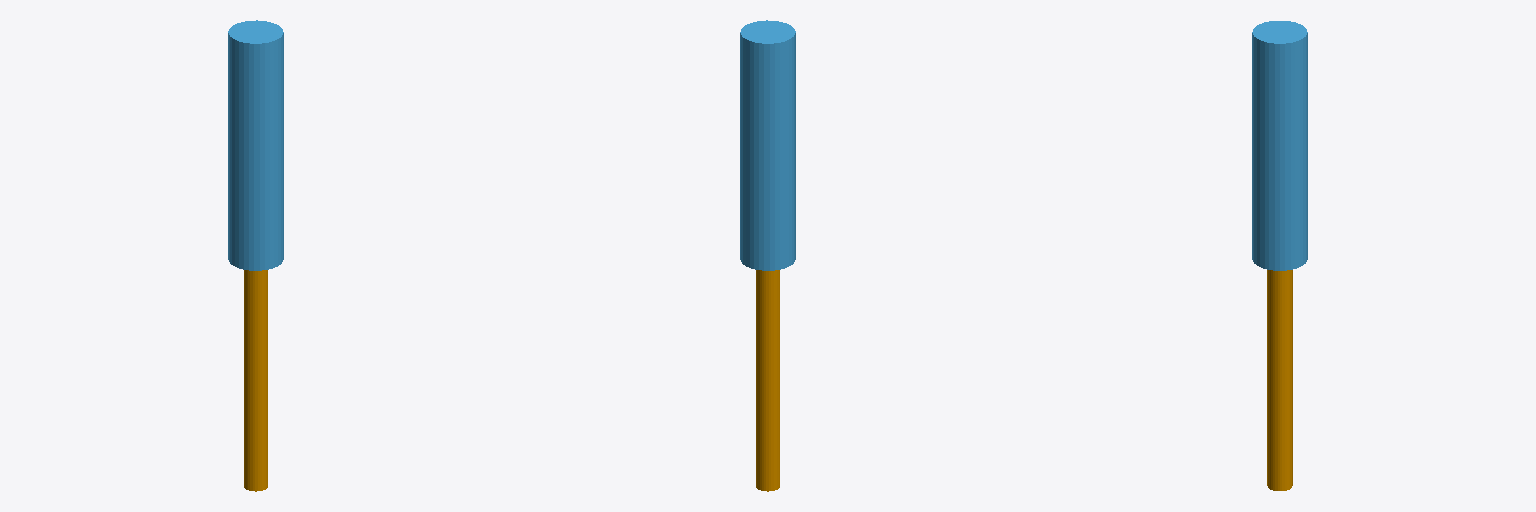
URDF robot description (screwdriver_on_the_table):
<?xml version="1.0" ?>
<!-- this is the one without any virtual joints and links -->
<robot name="screwdriver_on_the_table">
<link name="screwdriver_stick">
    <inertial>
      <mass value="0.05"/>
      <!-- <friction value="1.0"/> -->
      <inertia ixx="0.000041979" ixy="0.0" ixz="0.0" iyy="0.000041979" iyz="0.0" izz="0.000000625"/>
    </inertial>
    <visual>
        <origin rpy="0 0 0" xyz="0 0 0.05"/>
        <geometry>
            <cylinder radius="0.005" length="0.1"/>
        </geometry>
        <!-- <material name="White">
	 	    <color rgba="0.9 0.9 0.9 0.5"/>
        </material> -->
    </visual>
    <collision>
        <origin rpy="0 0 0" xyz="0 0 0.05"/>
        <geometry>
            <cylinder radius="0.005" length="0.1"/>
        </geometry>
    </collision>
</link>

<gazebo reference="screwdriver_body">
    <mu1>0.974782</mu1>
    <mu2>0.708958</mu2>
    <!-- Isaac Sim maps mu1/mu2 to PhysX static/dynamic friction during URDF→USD import -->
</gazebo>

<joint name="screwdriver_stick_body_joint" type="fixed">
    <parent link="screwdriver_stick"/>
    <child link="screwdriver_body"/>
    <origin rpy="0 0 0" xyz="0 0 0.1"/> 
    <axis xyz="0 0 1"/>
</joint>

<link name="screwdriver_body">
    <inertial>
      <mass value="0.106869"/>
      <inertia ixx="0.000092312" ixy="0.0" ixz="0.0" iyy="0.000092312" iyz="0.0" izz="0.000010000"/>
    </inertial>
    <visual>
        <origin rpy="0 0 0" xyz="0 0 0.05"/>
        <geometry>
            <cylinder radius="0.011038" length="0.1"/>
        </geometry>
        <!-- <material name="Red1">
	 	    <color rgba="0.9 0. 0. 0.5"/>
        </material> -->
    </visual>
    <collision>
        <origin rpy="0 0 0" xyz="0 0 0.05"/>
        <geometry>
            <cylinder radius="0.011038" length="0.1"/>
        </geometry>
    </collision>
</link>

<!-- <joint name="screwdriver_body_cap_joint" type="revolute">
    <parent link="screwdriver_body"/>
    <child link="screwdriver_cap"/>
    <origin rpy="0 0 0" xyz="0 0 0.1"/> 
    <axis xyz="0 0 1"/>
</joint>

<link name="screwdriver_cap">
    <inertial>
      <mass value="0.005"/>
      <inertia ixx="0.00001" ixy="0.0" ixz="0.0" iyy="0.000005" iyz="0.0" izz="0.000005"/>
    </inertial>
    <visual>
        <origin rpy="0 0 0" xyz="0 0 0.0006"/>
        <geometry>
            <cylinder radius="0.02" length="0.001"/>
        </geometry>
        <material name="Yellow">
	 	    <color rgba="0.9 0.9 0. 1.0"/>
        </material>
    </visual>
    <collision>
        <origin rpy="0 0 0" xyz="0 0 0.0005"/>
        <geometry>
            <cylinder radius="0.02" length="0.001"/>
        </geometry>
    </collision>
</link> -->

</robot>

--- What the picture shows (computed from the rendered views, not written in the file) ---
Views: 3 orthographic renders of the robot side by side, from view 1: azimuth 30°, elevation 25°; view 2: azimuth 150°, elevation 25°; view 3: azimuth 270°, elevation 25°.
Robot: screwdriver_on_the_table — 2 links, 1 joints (1 fixed); root link screwdriver_stick; default pose: every joint at zero.
Visible links, largest first — view 1: screwdriver_body, screwdriver_stick; view 2: screwdriver_body, screwdriver_stick; view 3: screwdriver_body, screwdriver_stick.
Boxes of the visible links, <box> form: screwdriver_body: <box>228,20,283,270</box>; screwdriver_stick: <box>244,270,267,491</box>; screwdriver_body: <box>740,20,795,270</box>; screwdriver_stick: <box>756,270,779,491</box>; screwdriver_body: <box>1252,21,1307,270</box>; screwdriver_stick: <box>1267,270,1292,490</box>.
Size in the robot's own frame: 0.0221 by 0.0221 by 0.2 metres.
Geometry: primitives only (box / cylinder / sphere), no mesh files.
